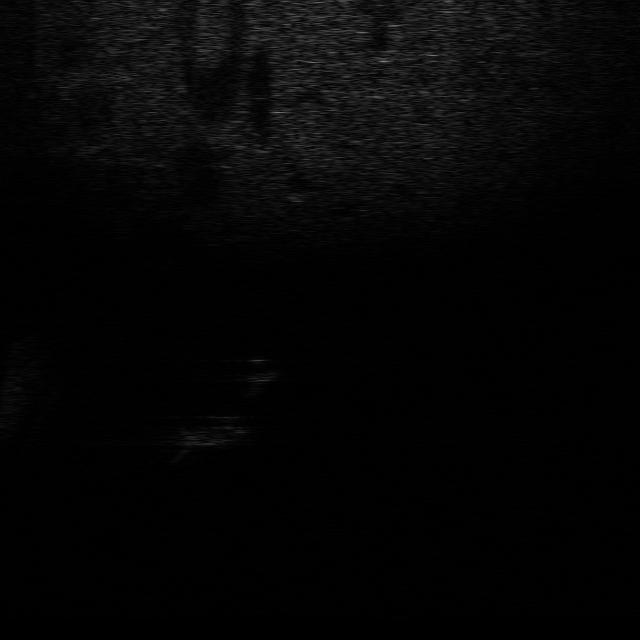ball: (230, 350, 285, 385)
square cage: (160, 421, 226, 464)
tyre: (181, 405, 259, 448)
